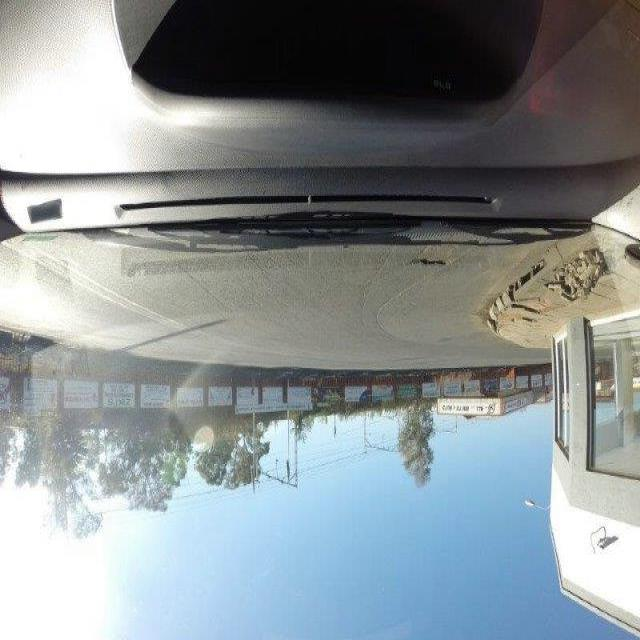lubang: (402, 246, 462, 274)
